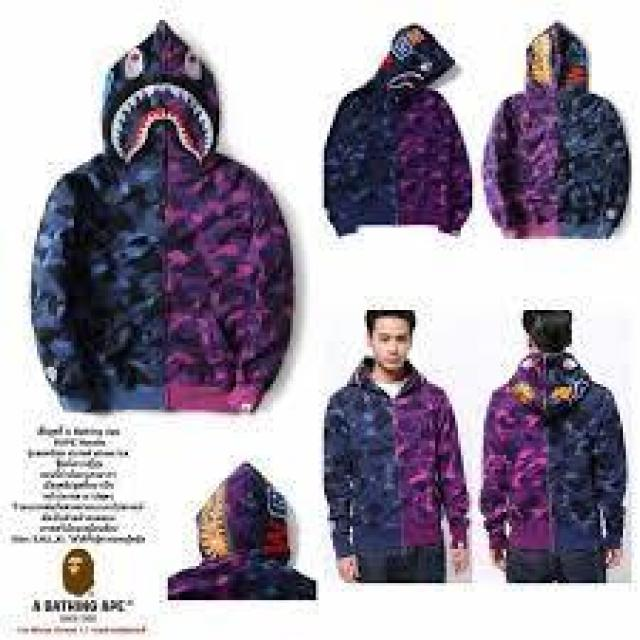sweater: (30, 23, 294, 415), (485, 23, 633, 242), (322, 21, 473, 232), (482, 353, 630, 560), (322, 361, 473, 558)
